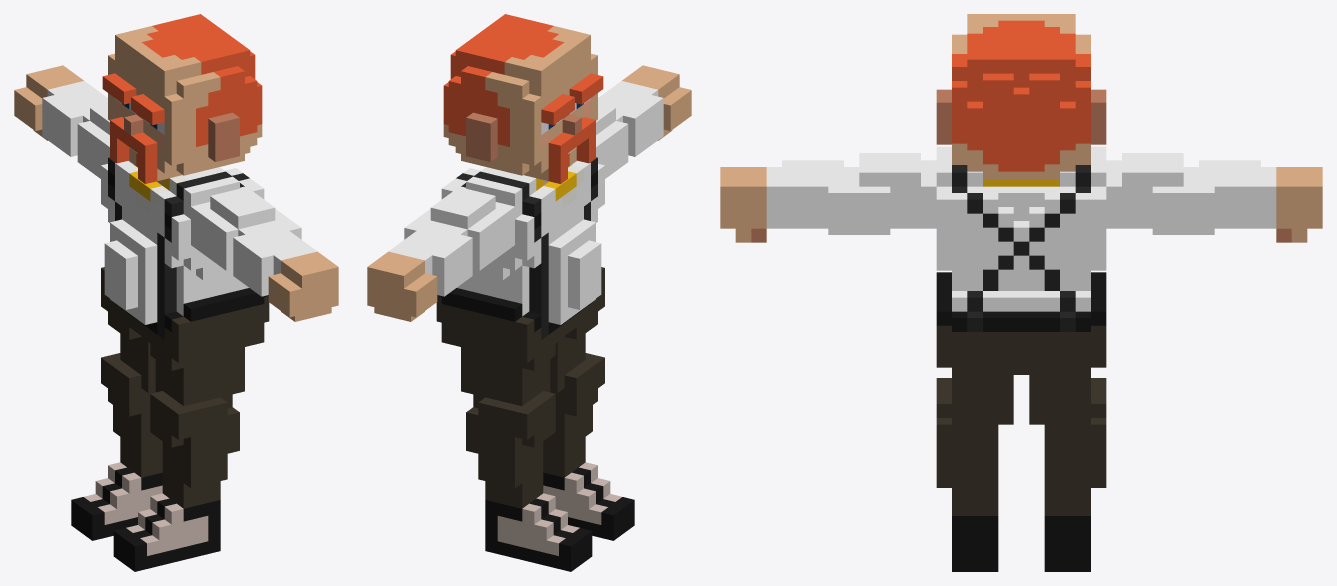
Rendered from jake-0-CayafaHero.obj.
3 views of the same model, side by side, from view 1: azimuth 30°, elevation 25°; view 2: azimuth 150°, elevation 25°; view 3: azimuth 270°, elevation 25° (orthographic). The views are drawn at different scales.
Visible parts, largest first — view 1: CayafaHero; view 2: CayafaHero; view 3: CayafaHero.
Part boxes in pixels (<box>): CayafaHero: <box>14,14,338,571</box>; CayafaHero: <box>367,14,691,571</box>; CayafaHero: <box>720,14,1322,571</box>.
Bounding box in the file's own units: 1.1 × 3.8 × 3.9.
Materials: 1 (1 with a texture image).
